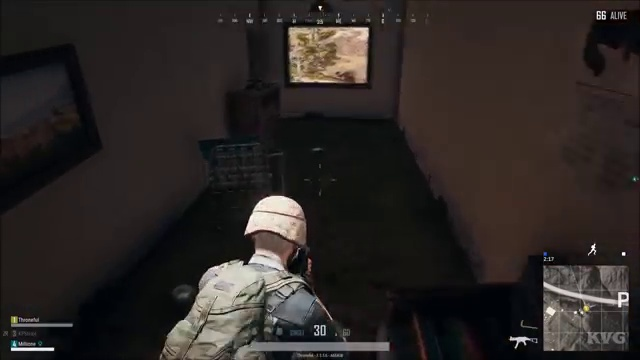Player: (170, 180, 370, 318)
